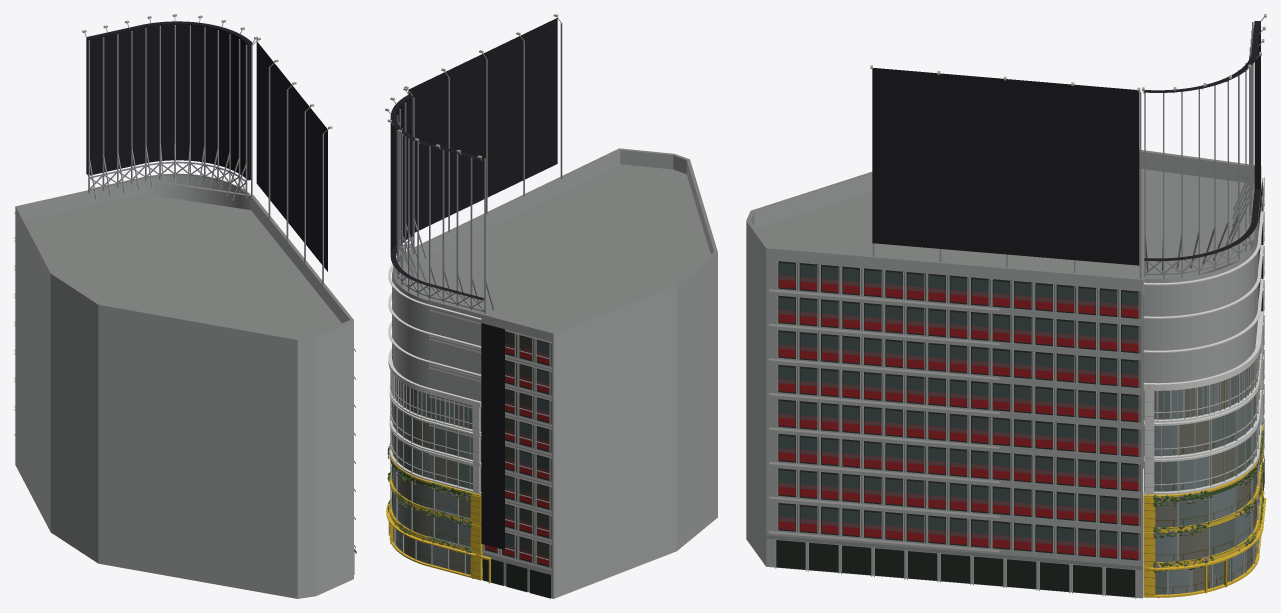
Rendered from ekimae.glb.
3 renders of one model, left to right at view 1: azimuth 30°, elevation 25°; view 2: azimuth 150°, elevation 25°; view 3: azimuth 270°, elevation 25°, orthographic. The views are drawn at different scales.
Visible parts, largest first — view 1: ek_wall, ek_screen_back, ek_roof, ek_steel; view 2: ek_wall, ek_roof, ek_screen_back, ek_steel, ek_band, ek_silver, ek_reveal, ek_glass, ek_glass_blue, ek_glass_warm, ek_red_frame, ek_gold (+4 smaller); view 3: ek_wall, ek_screen_back, ek_reveal, ek_glass_blue, ek_red_frame, ek_silver, ek_roof, ek_band, ek_shop_glass, ek_steel, ek_glass, ek_glass_warm (+4 smaller).
Part boxes in pixels (<box>): ek_wall: <box>15,175,353,598</box>; ek_screen_back: <box>86,21,327,271</box>; ek_roof: <box>15,178,353,339</box>; ek_steel: <box>84,17,356,553</box>; ek_wall: <box>393,150,717,598</box>; ek_roof: <box>409,148,717,333</box>; ek_screen_back: <box>390,18,557,549</box>; ek_steel: <box>388,17,562,488</box>; ek_band: <box>388,264,552,570</box>; ek_silver: <box>385,14,558,574</box>; ek_reveal: <box>392,267,551,567</box>; ek_glass: <box>392,332,549,574</box>; ek_glass_blue: <box>392,341,549,568</box>; ek_glass_warm: <box>392,336,549,572</box>; ek_red_frame: <box>485,343,549,565</box>; ek_gold: <box>386,454,491,583</box>; ek_wall: <box>746,151,1261,598</box>; ek_screen_back: <box>872,21,1262,424</box>; ek_reveal: <box>778,178,1262,560</box>; ek_glass_blue: <box>779,183,1262,594</box>; ek_red_frame: <box>778,275,1138,559</box>; ek_silver: <box>775,14,1266,598</box>; ek_roof: <box>746,150,1261,294</box>; ek_band: <box>769,177,1264,552</box>; ek_shop_glass: <box>776,456,1264,597</box>; ek_steel: <box>765,17,1263,569</box>; ek_glass: <box>1154,204,1260,594</box>; ek_glass_warm: <box>1154,193,1261,591</box>.
Size of the model in its own units: 30.11 by 50.4 by 46.46.
